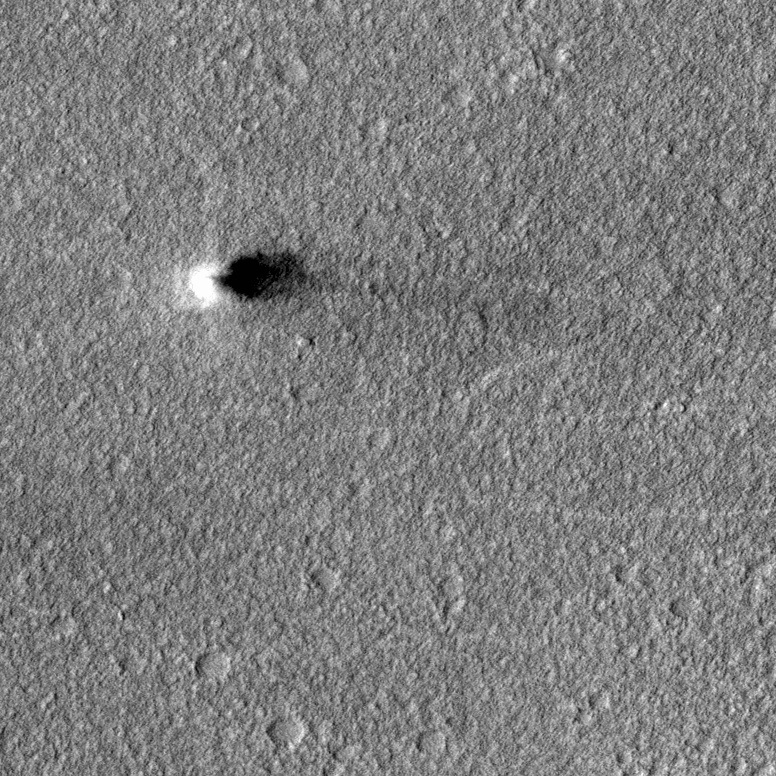dust_devil: (186, 248, 305, 309)
